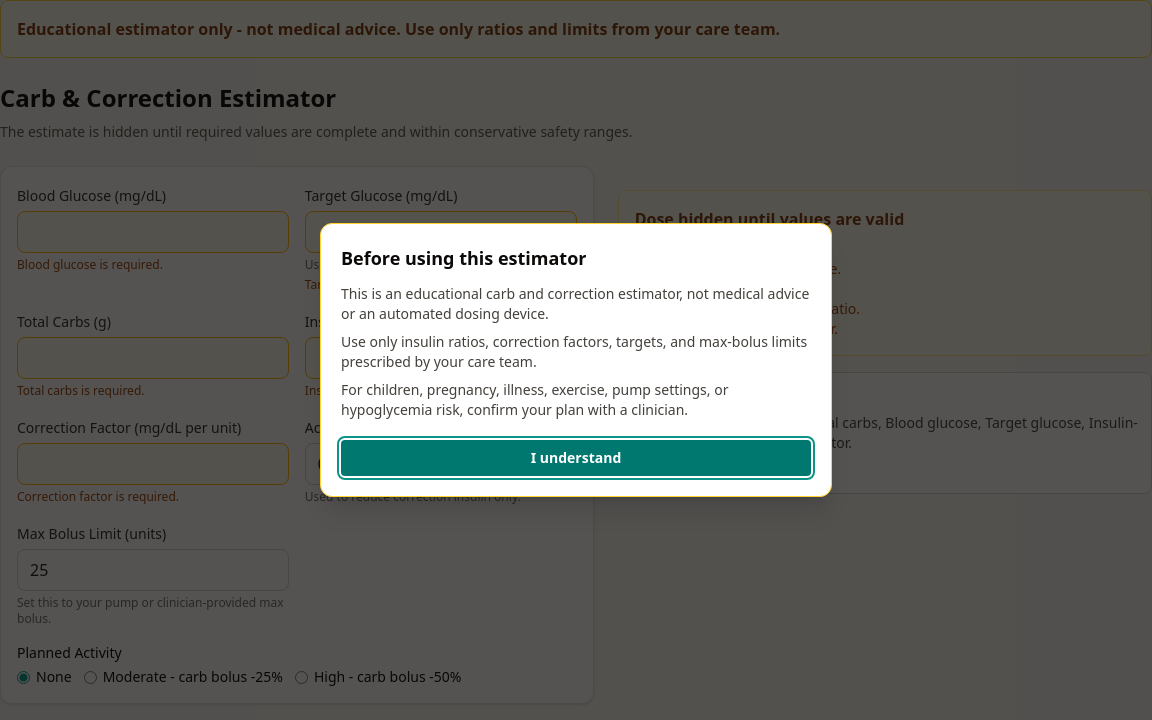
it: InsulinHelper acknowledgement › requires a first-use acknowledgement before using the estimator
This screenshot has width=1152, height=720.
Expected: the dialog "Before using this estimator" is shown, [320,223,832,497]
Click the button "I understand": [576, 458] box [341,440,811,476]
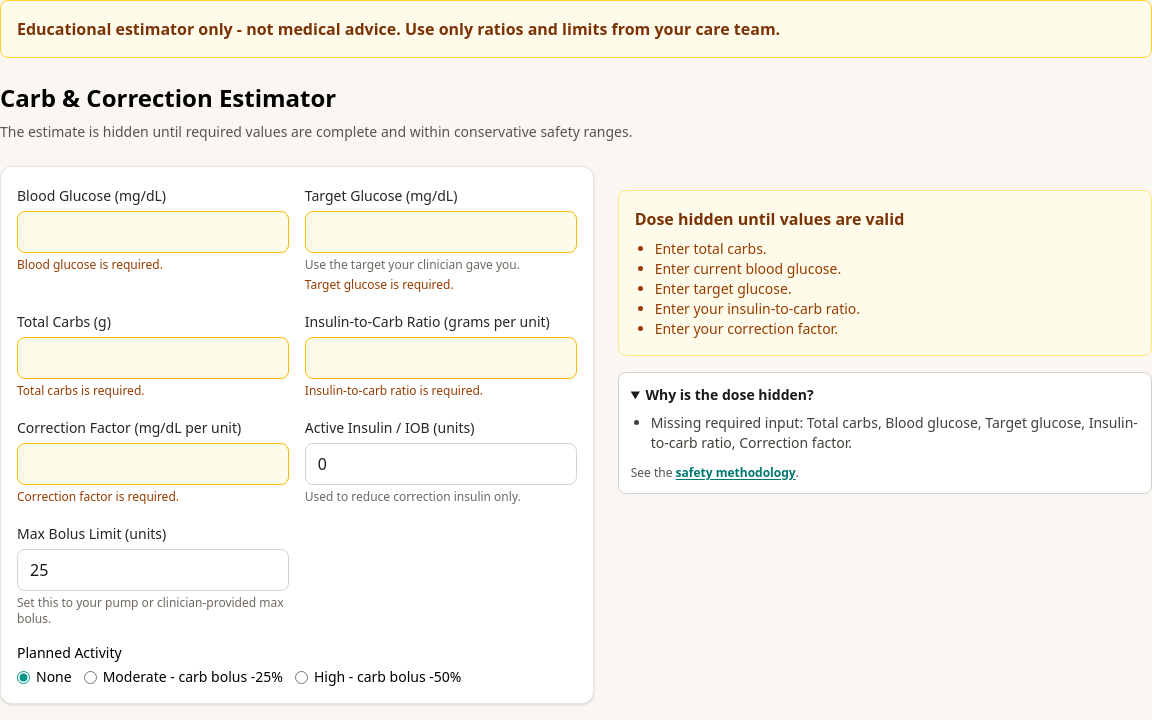
Now the heading "Before using this estimator" is gone
